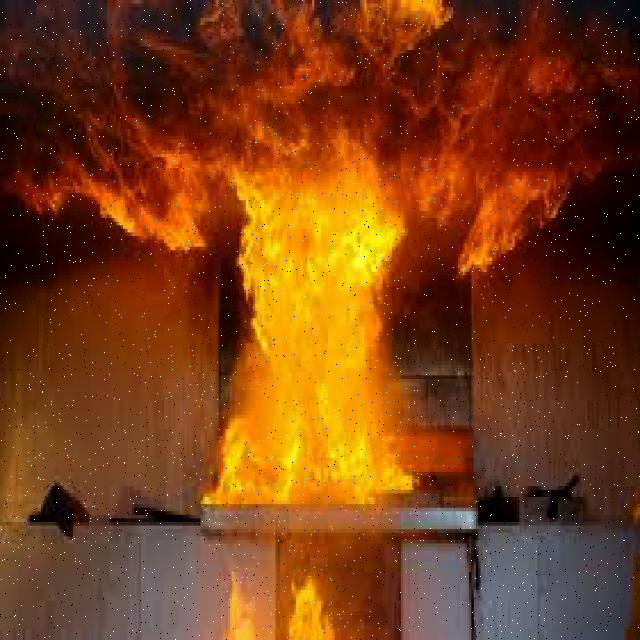fire: (239, 165, 418, 512)
